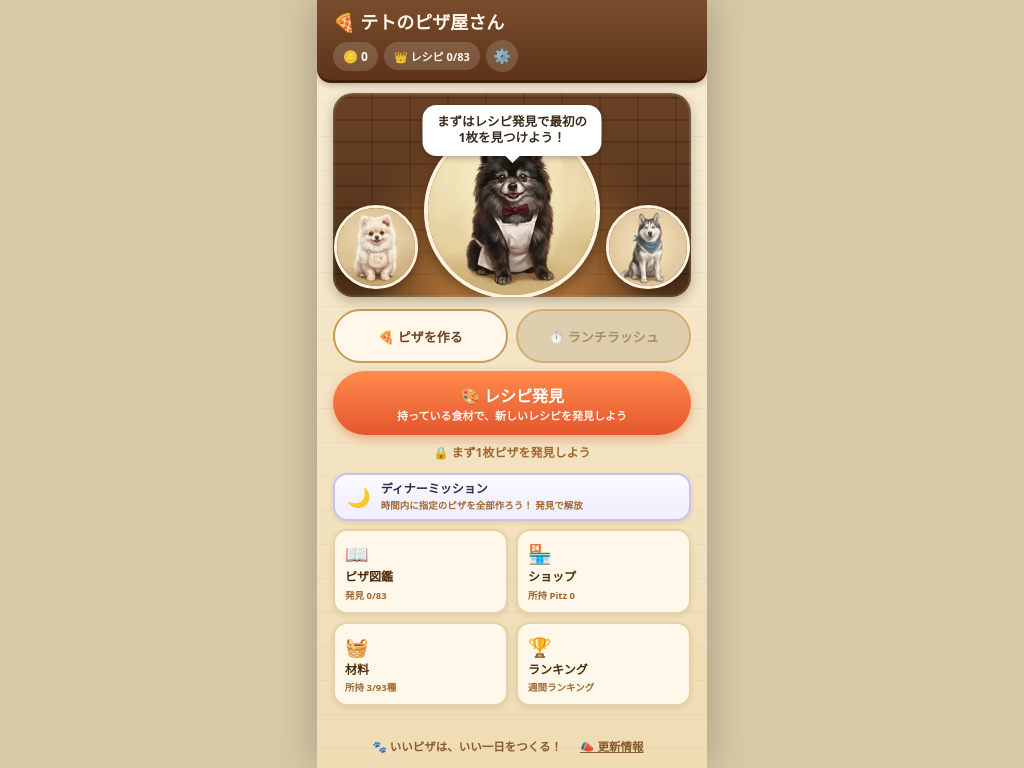
HOME レシピ発見 (#373) › A. no cookable entry: the targetless Free Cook (no research context)
This screenshot has width=1024, height=768.
Click the button "🎨 レシピ発見 持っている食材で、新しいレシピを発見しよう": x=512, y=403 left=333, top=371, right=691, bottom=435
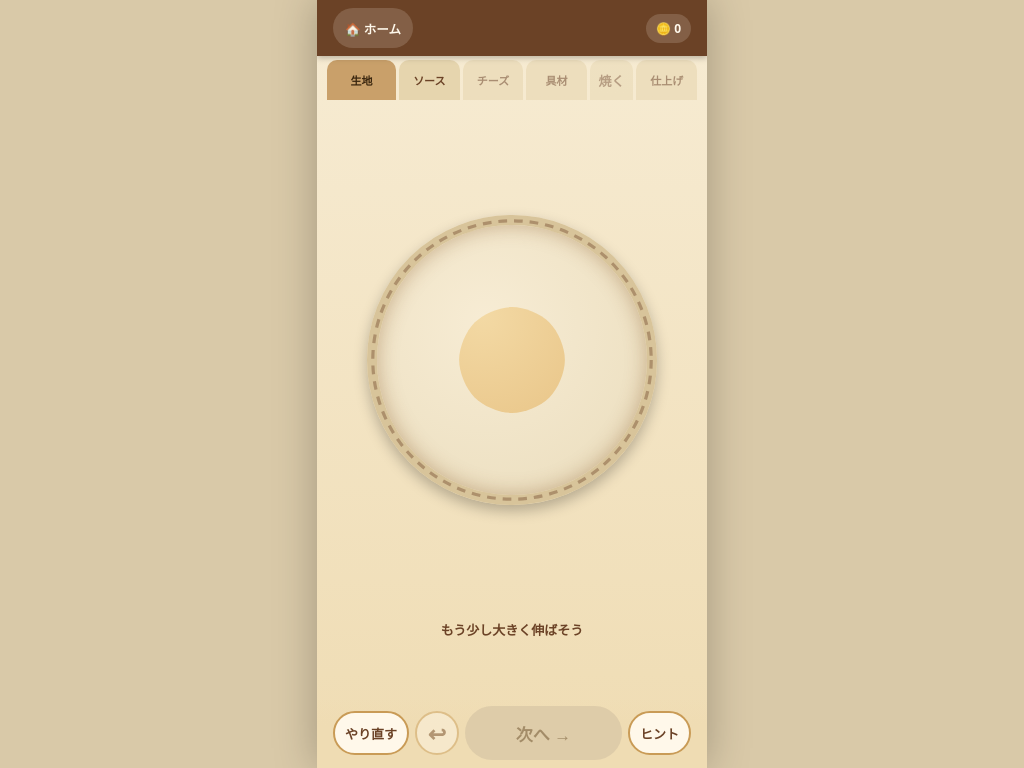
Click the button "ヒント": x=660, y=733 left=628, top=711, right=691, bottom=755
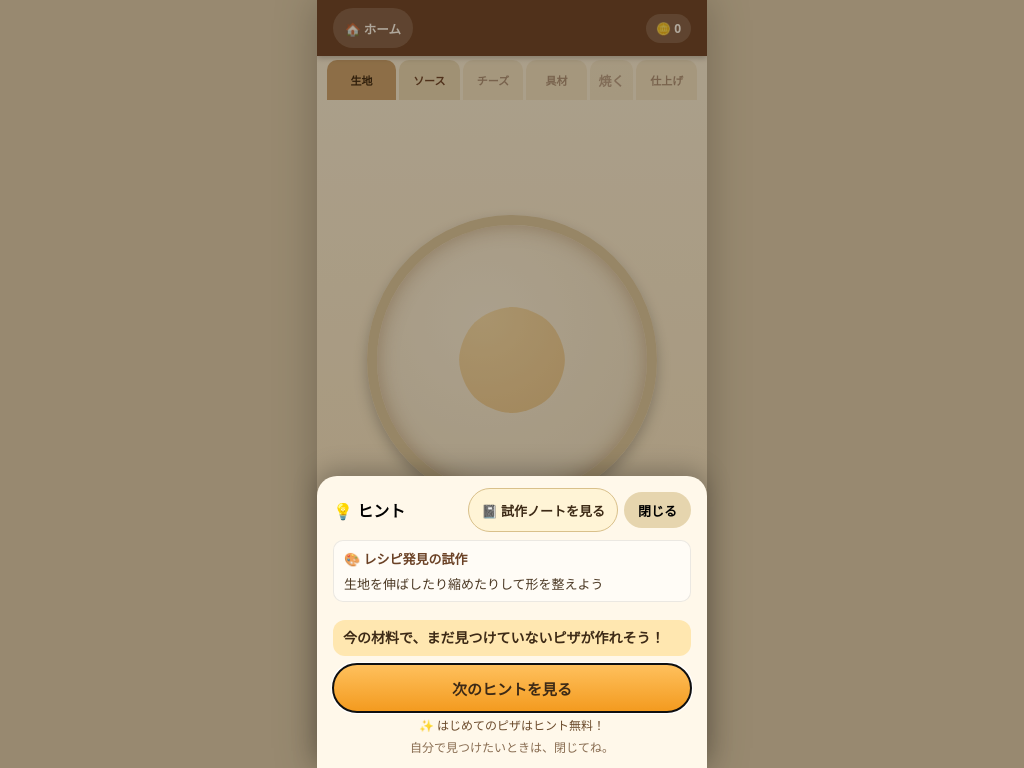
Click the button "閉じる": x=658, y=510 left=624, top=492, right=691, bottom=528
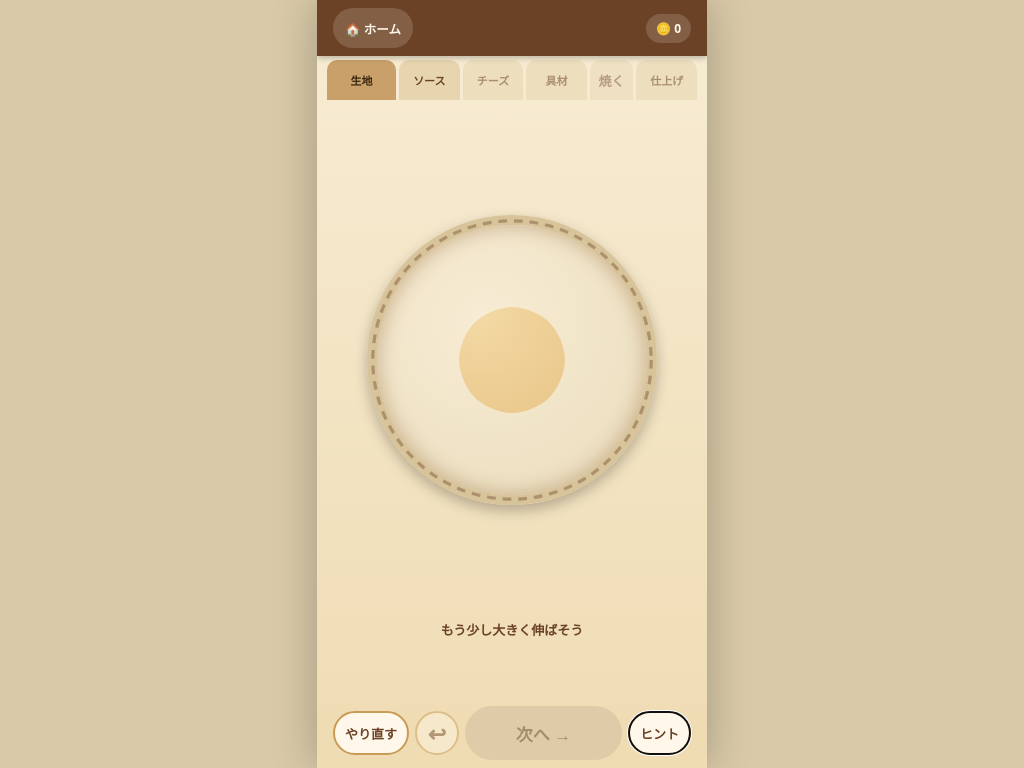
Click the button "ヒント": x=660, y=733 left=628, top=711, right=691, bottom=755
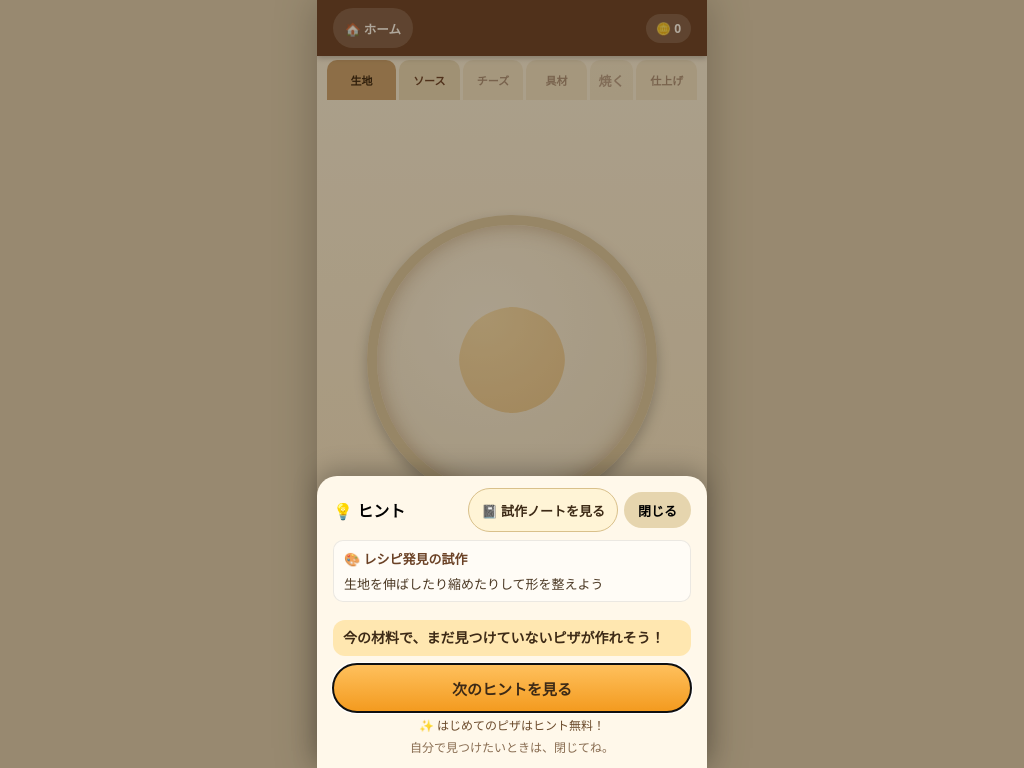
expect the dialog "ヒント" shows "レシピ発見の試作": met, box left=344, top=550, right=468, bottom=568
